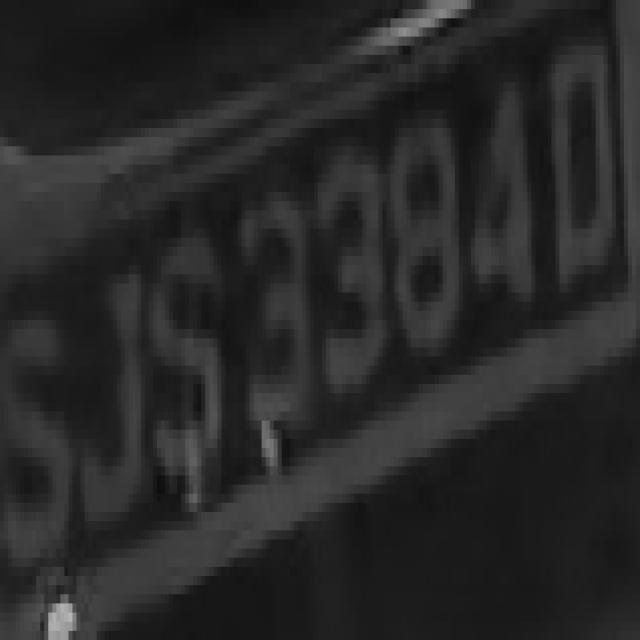3: (229, 165, 314, 457), (302, 137, 390, 412)
4: (443, 46, 535, 357)
8: (382, 110, 471, 393)
D: (543, 9, 624, 320)
J: (72, 201, 149, 521)
S: (145, 192, 229, 503), (8, 256, 77, 594)
